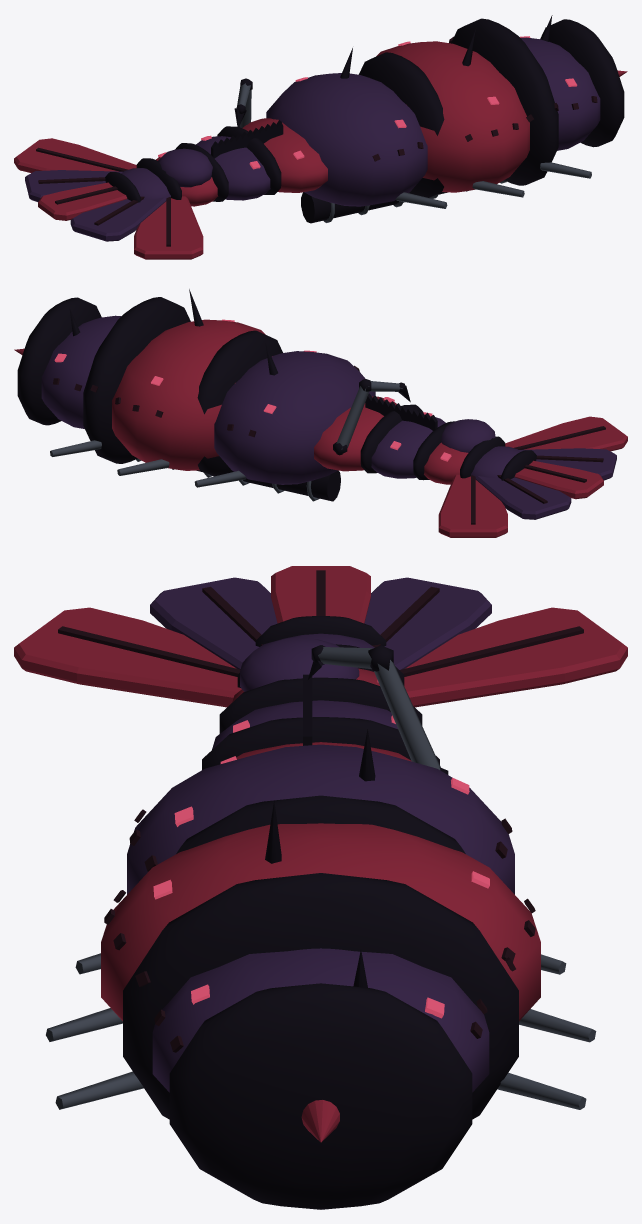
File: lure-directorate.glb
3 views of the same model, one above another, from view 1: azimuth 30°, elevation 25°; view 2: azimuth 150°, elevation 25°; view 3: azimuth 270°, elevation 25° (orthographic). The views are drawn at different scales.
Parts seen in each view (by area): view 1: tergite_4, tergite_5, tergite_seam_5, tergite_6, tergite_seam_6, tergite_seam_4, fan_s1_plate, tergite_3, fan_p1_plate, fan_s0_plate, tergite_2, telson_plate (+14 smaller); view 2: tergite_4, tergite_5, tergite_seam_5, tergite_6, tergite_seam_6, tergite_seam_4, fan_p1_plate, fan_s1_plate, fan_p0_plate, tergite_2, tergite_3, telson_plate (+15 smaller); view 3: tergite_seam_6, tergite_seam_5, tergite_5, tergite_4, tergite_6, fan_s1_plate, fan_p1_plate, fan_p0_plate, fan_s0_plate, tergite_seam_4, tergite_ridge_3, telson_plate (+13 smaller).
Boxes of the visible parts, x1,y1,x2,y2 form: tergite_4: (266,73,427,206); tergite_5: (376,41,529,192); tergite_seam_5: (451,18,558,185); tergite_6: (521,37,600,150); tergite_seam_6: (540,19,624,147); tergite_seam_4: (359,52,444,197); fan_s1_plate: (134,196,203,259); tergite_3: (242,118,327,192); fan_p1_plate: (14,138,136,173); fan_s0_plate: (70,197,166,241); tergite_2: (196,136,270,200); telson_plate: (38,182,127,220); tergite_4: (214,351,375,484); tergite_5: (112,319,272,470); tergite_seam_5: (83,297,190,463); tergite_6: (41,315,121,428); tergite_seam_6: (17,297,101,425); tergite_seam_4: (197,330,282,476); fan_p1_plate: (438,474,507,537); fan_s1_plate: (505,416,627,451); fan_p0_plate: (475,475,571,519); tergite_2: (371,416,445,478); tergite_3: (314,396,396,471); telson_plate: (514,460,603,499); tergite_seam_6: (169,983,472,1209); tergite_seam_5: (123,873,518,1119); tergite_5: (101,823,540,1020); tergite_4: (127,744,514,894); tergite_6: (152,948,489,1092); fan_s1_plate: (14,607,241,707); fan_p1_plate: (404,607,627,707); fan_p0_plate: (364,577,491,669); fan_s0_plate: (150,577,277,669); tergite_seam_4: (176,795,465,853); tergite_ridge_3: (202,717,439,769); telson_plate: (271,566,370,623).
Size of the model in its own units: 100 by 28.37 by 45.99.
